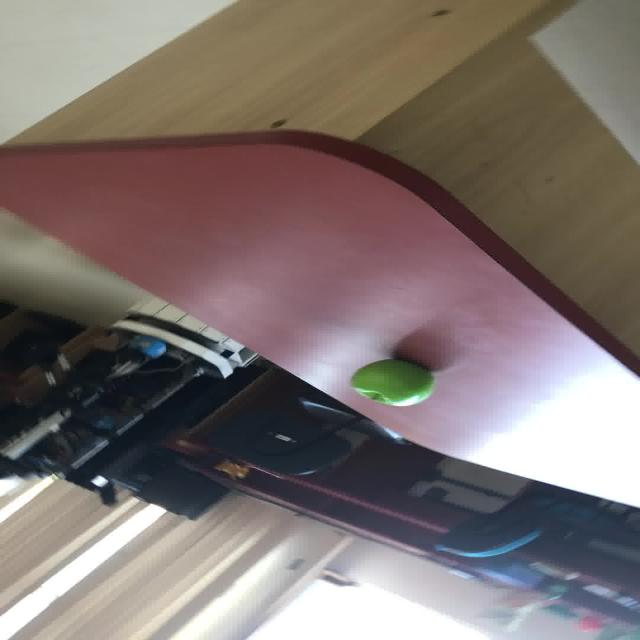apple: (348, 358, 435, 407)
